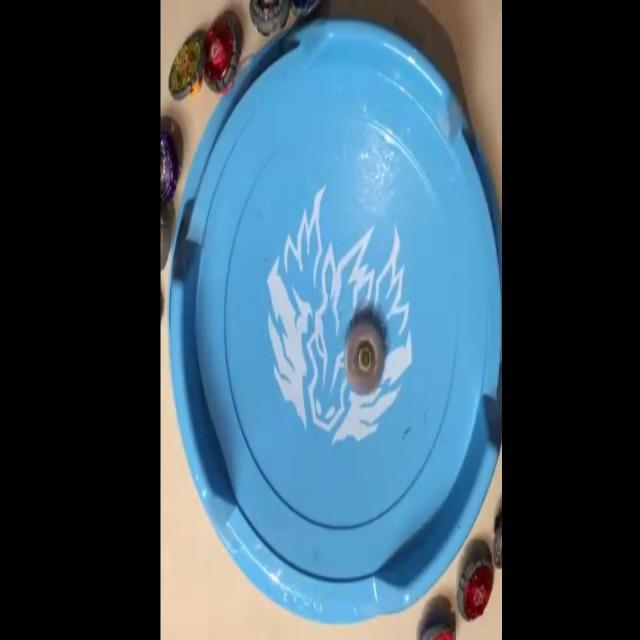Beyblade: (202, 17, 238, 94), (346, 322, 385, 392), (458, 556, 493, 623), (169, 34, 204, 100)
